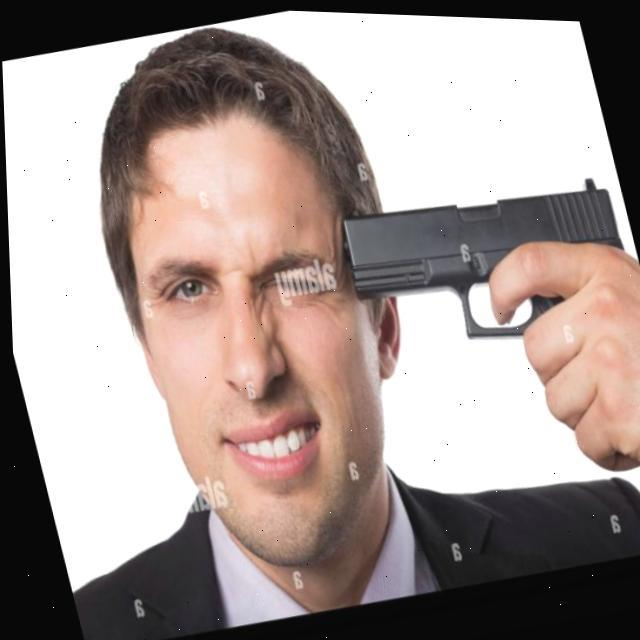gun: (332, 163, 640, 356)
